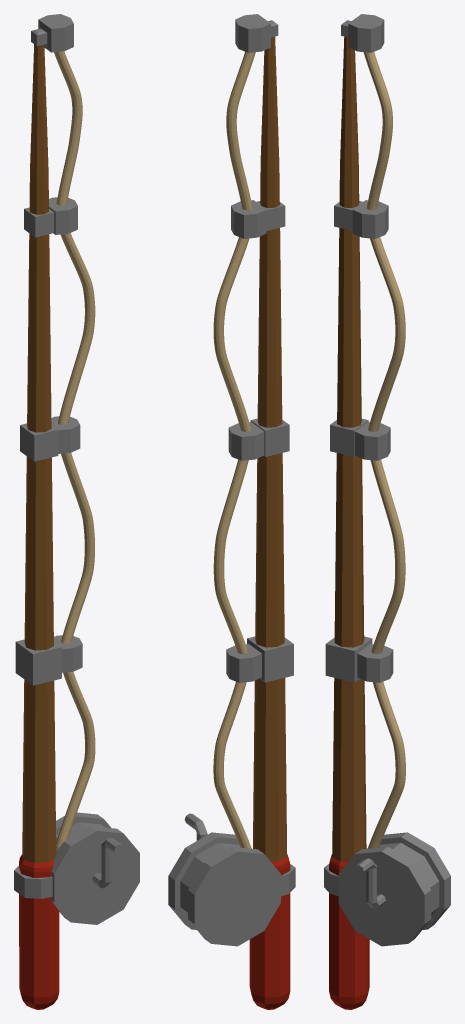
Rendered from fishingrod.fbx.
3 views of the same model, side by side, from view 1: azimuth 30°, elevation 25°; view 2: azimuth 210°, elevation 25°; view 3: azimuth 330°, elevation 25° (orthographic).
Parts seen in each view (by area): view 1: BézierCurve, Cylinder.001; view 2: BézierCurve, Cylinder.001; view 3: BézierCurve, Cylinder.001.
Part boxes in pixels (x1,y1,x2,y2): BézierCurve: (14, 14, 139, 1009); Cylinder.001: (92, 837, 123, 888); BézierCurve: (168, 14, 295, 1009); Cylinder.001: (184, 813, 207, 840); BézierCurve: (324, 14, 450, 1009); Cylinder.001: (354, 858, 386, 909).
Bounding box in the file's own units: 0.0842 × 0.7352 × 0.0652.
